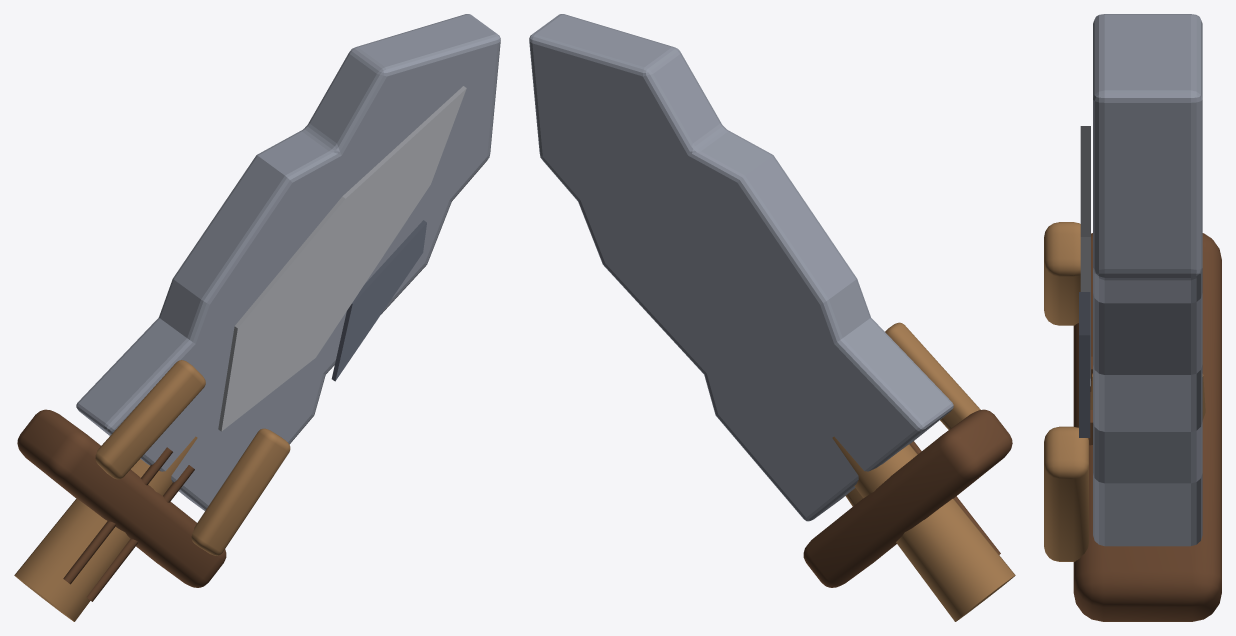
Rendered from stonesword.glb.
3 views of the same model, side by side, from view 1: azimuth 30°, elevation 25°; view 2: azimuth 150°, elevation 25°; view 3: azimuth 270°, elevation 25° (orthographic). The views are drawn at different scales.
Visible parts, largest first — view 1: _stone-blade_0, _oak-splints_0, _oak-hilt_0; view 2: _stone-blade_0, _oak-splints_0, _oak-hilt_0; view 3: _stone-blade_0, _oak-splints_0, _oak-hilt_0.
Boxes of the visible parts, x1,y1,x2,y2 form: _stone-blade_0: (76,14,500,510); _oak-splints_0: (17,360,290,587); _oak-hilt_0: (14,436,197,621); _stone-blade_0: (529,14,953,521); _oak-splints_0: (803,322,1012,587); _oak-hilt_0: (832,436,1015,621); _stone-blade_0: (1079,14,1202,546); _oak-splints_0: (1044,222,1221,621); _oak-hilt_0: (1088,356,1205,445).
Bounding box in the file's own units: 0.8278 × 0.837 × 0.1725.
